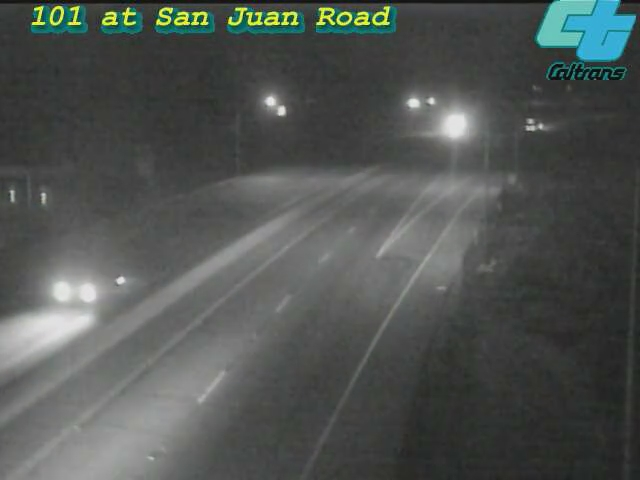vehicle: (34, 251, 114, 331), (430, 99, 480, 149), (509, 99, 559, 149)
